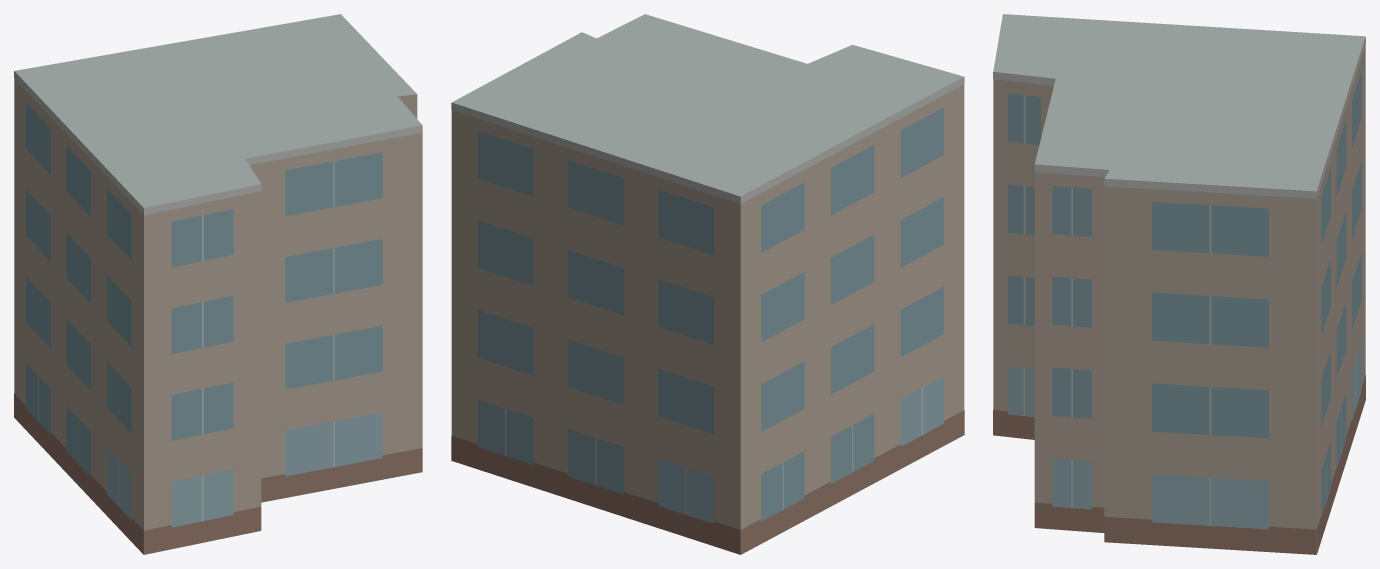
The model's file is survey-upis-32596232.glb.
3 renders of one model, left to right at view 1: azimuth 30°, elevation 25°; view 2: azimuth 150°, elevation 25°; view 3: azimuth 270°, elevation 25°, orthographic. The views are drawn at different scales.
Visible parts, largest first — view 1: survey-upis-32596232.tmp; view 2: survey-upis-32596232.tmp; view 3: survey-upis-32596232.tmp.
Boxes of the visible parts, left/top/right/bottom form: survey-upis-32596232.tmp: left=14, top=14, right=422, bottom=554; survey-upis-32596232.tmp: left=451, top=14, right=964, bottom=554; survey-upis-32596232.tmp: left=993, top=14, right=1365, bottom=554.
Bounding box in the file's own units: 12.25 × 11.7 × 10.88.
